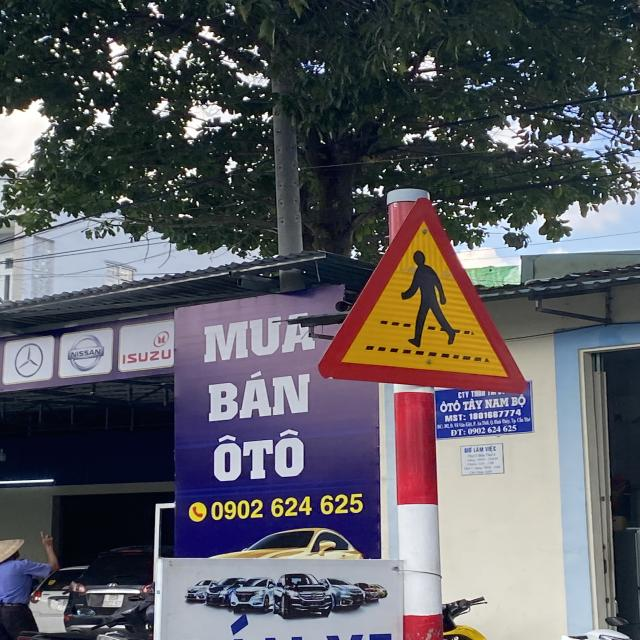Duong_Nguoi_Di_Bo_Sang_Ngang: (315, 196, 526, 393)
